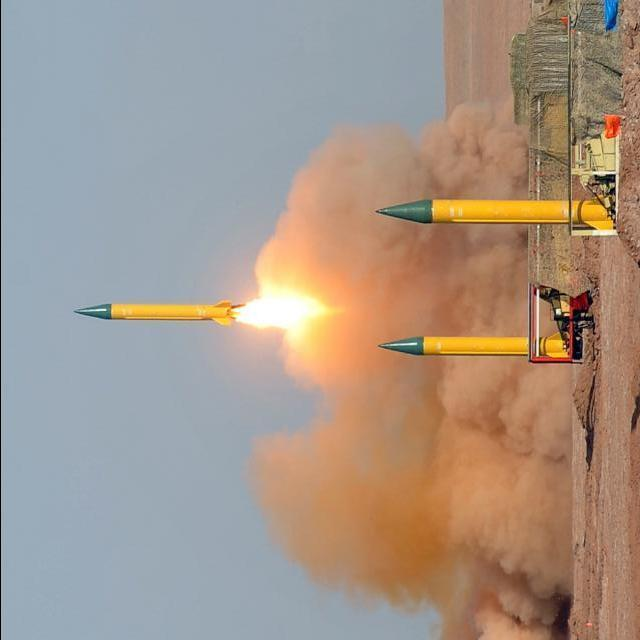missile: (375, 194, 610, 233), (383, 327, 582, 364), (64, 292, 241, 333)
